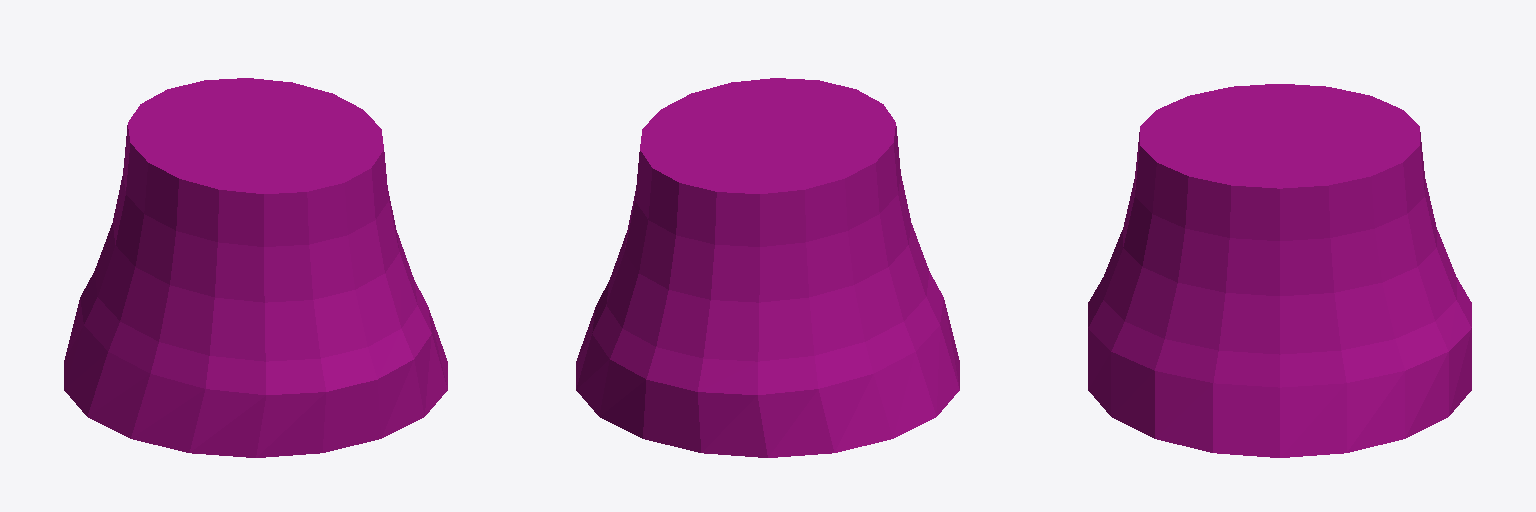
Rendered from tree.obj.
The picture shows the model from 3 angles: view 1: azimuth 30°, elevation 25°; view 2: azimuth 150°, elevation 25°; view 3: azimuth 270°, elevation 25°; orthographic projection.
Parts seen in each view (by area): view 1: Cylinder001; view 2: Cylinder001; view 3: Cylinder001.
Boxes of the visible parts, x1,y1,x2,y2 form: Cylinder001: [64, 78, 447, 457]; Cylinder001: [576, 78, 959, 457]; Cylinder001: [1088, 84, 1471, 457].
Bounding box in the file's own units: 2.08 × 1.41 × 2.04.